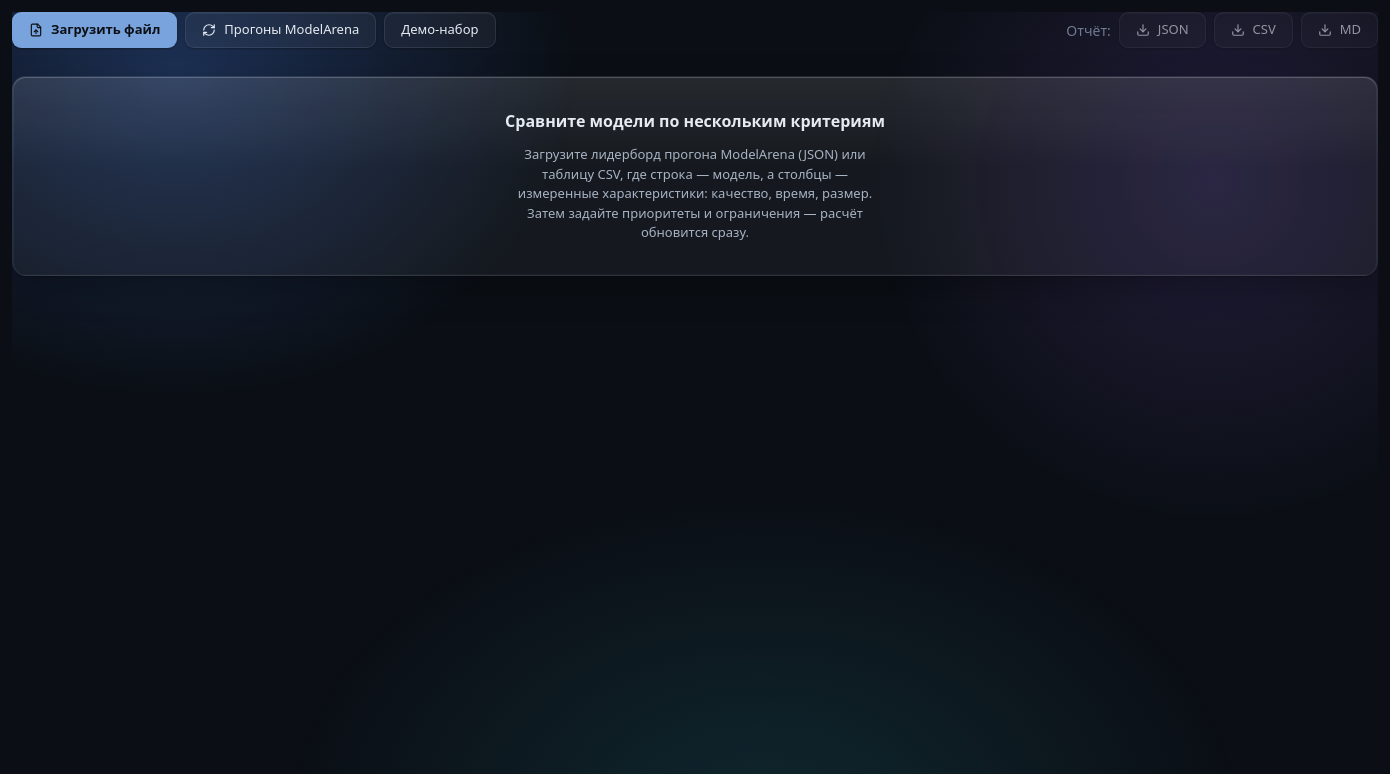
Test: DecisionLab › ошибка backend показывается, а не проглатывается
Click the button "Демо-набор": coordinates (440, 30) top-left (384, 12), bottom-right (496, 48)
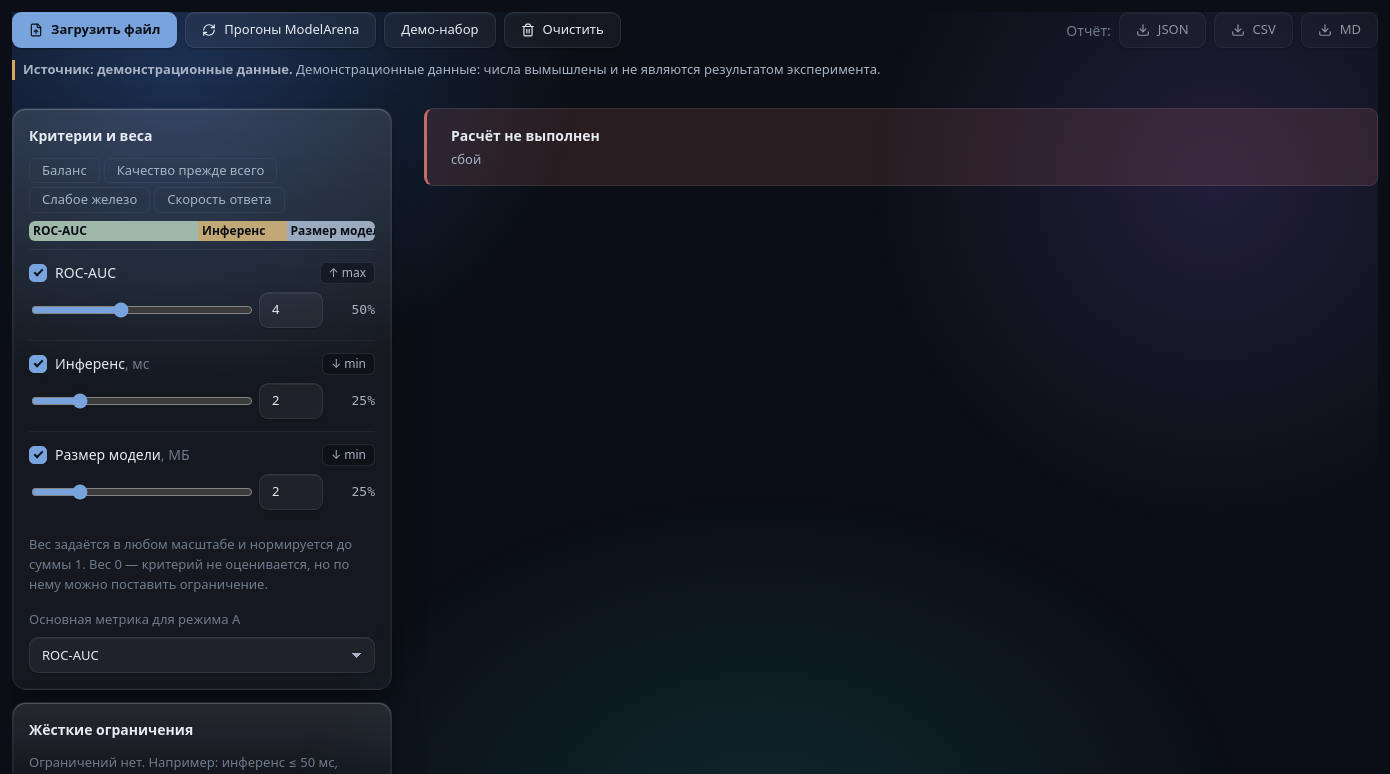
expect the text "Расчёт не выполнен" is shown: met, box top-left (451, 124), bottom-right (600, 146)
